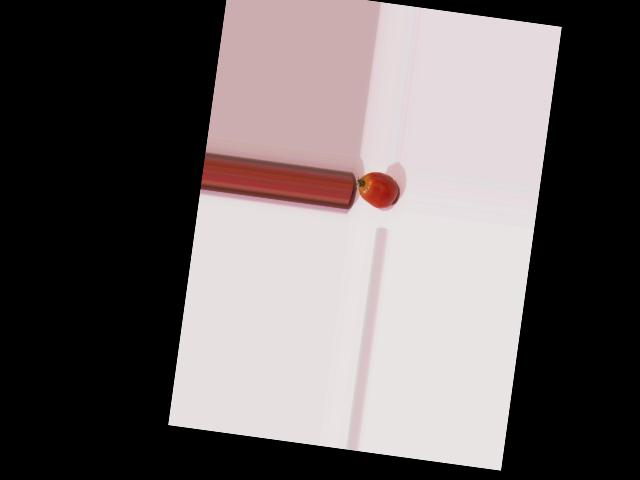tomato: (355, 170, 399, 210)
